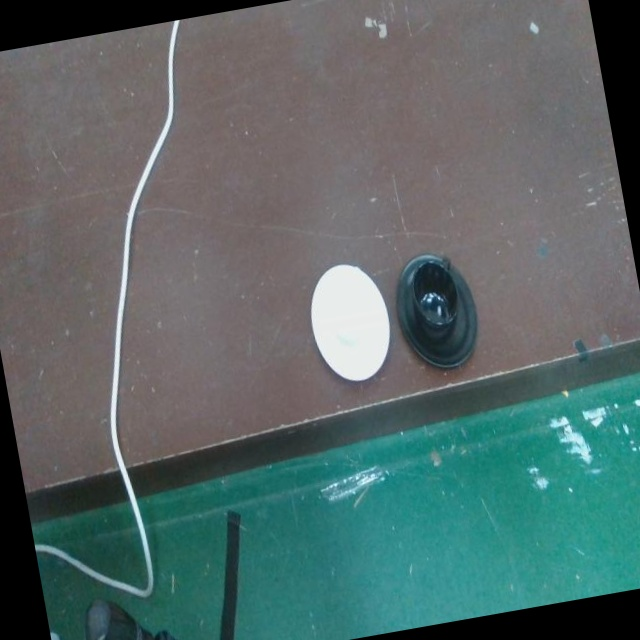black: (395, 248, 479, 374)
white: (310, 260, 391, 389)
